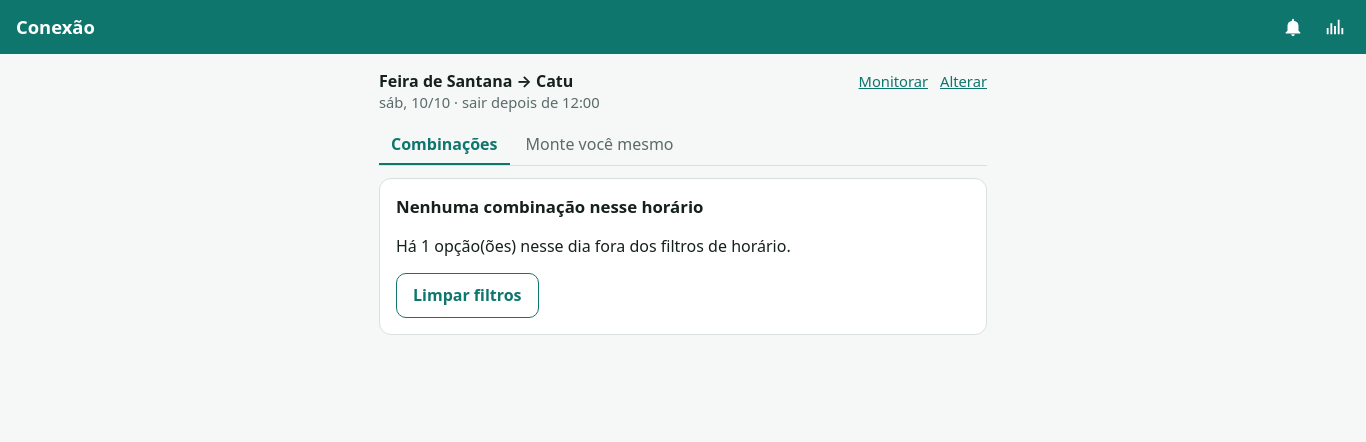
Test: Resultados › estado vazio (b): coletado, mas sem combinação › filtros que escondem tudo: oferece limpar
The image size is (1366, 442).
Expected: the heading "Nenhuma combinação nesse horário" is shown, [396, 195, 703, 218]
What coordinates should you click on to do the following:
click the button "Limpar filtros"
I would click on:
 (467, 296)
Its box is [396, 273, 538, 318].
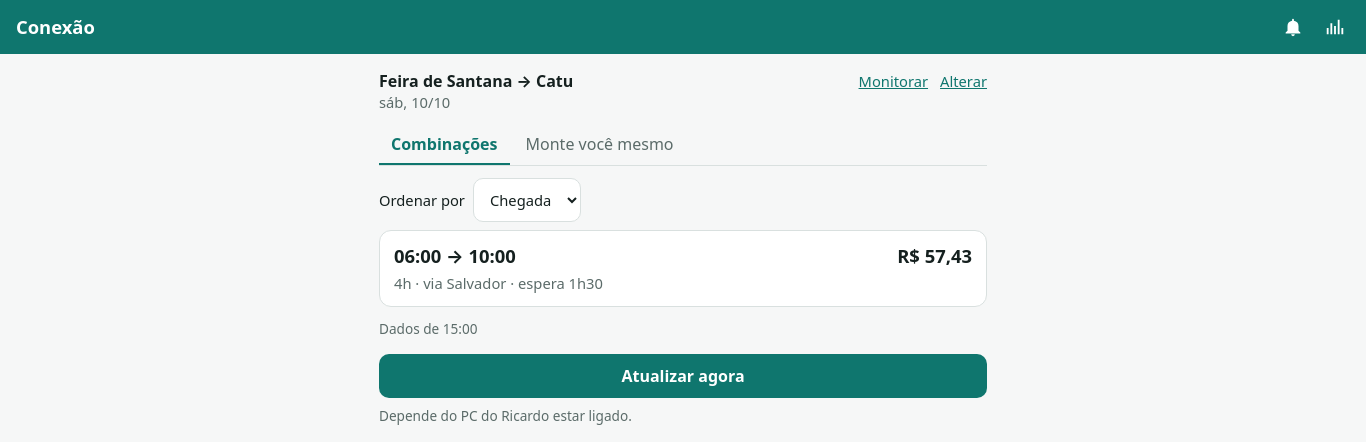
Expected: the text "06:00 → 10:00" is shown, [394, 243, 516, 269]
